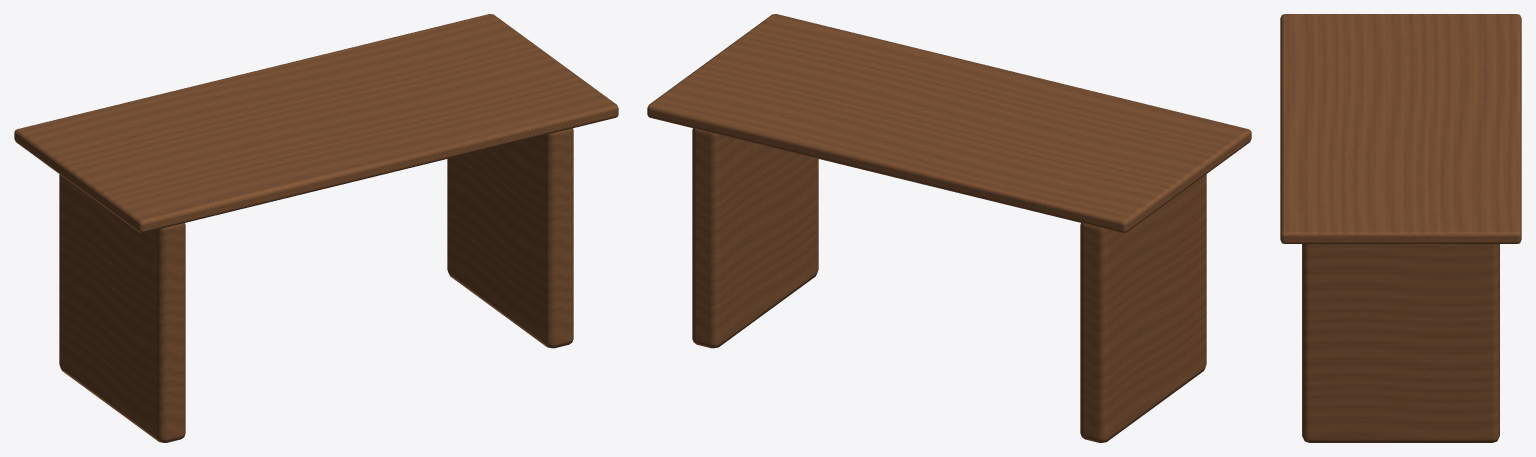
Rendered from desk_japandi_bridge-6ed115a7eda5.glb.
3 renders of one model, left to right at view 1: azimuth 30°, elevation 25°; view 2: azimuth 150°, elevation 25°; view 3: azimuth 270°, elevation 25°, orthographic. The views are drawn at different scales.
Parts seen in each view (by area): view 1: surface_walnut; view 2: surface_walnut; view 3: surface_walnut.
Boxes of the visible parts, x1,y1,x2,y2 form: surface_walnut: (14,14,618,442); surface_walnut: (647,14,1251,442); surface_walnut: (1280,14,1521,442).
Size of the model in its own units: 1.56 by 0.75 by 0.72.
1 material, 1 textured.
